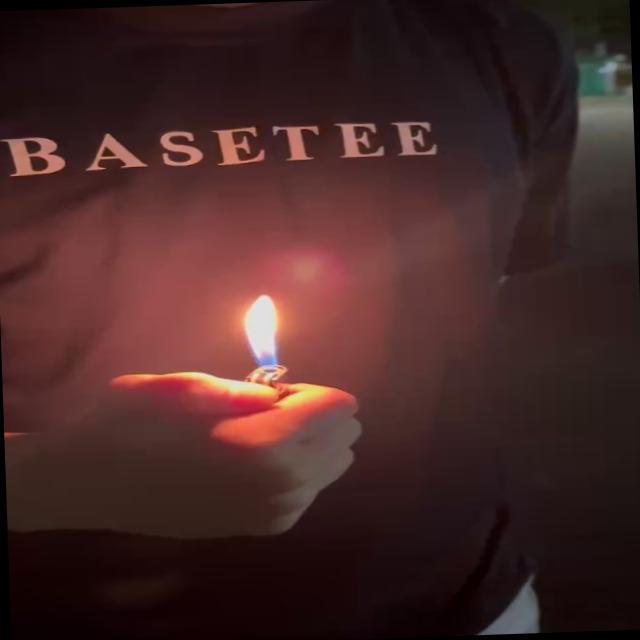Fire: (240, 292, 291, 372)
